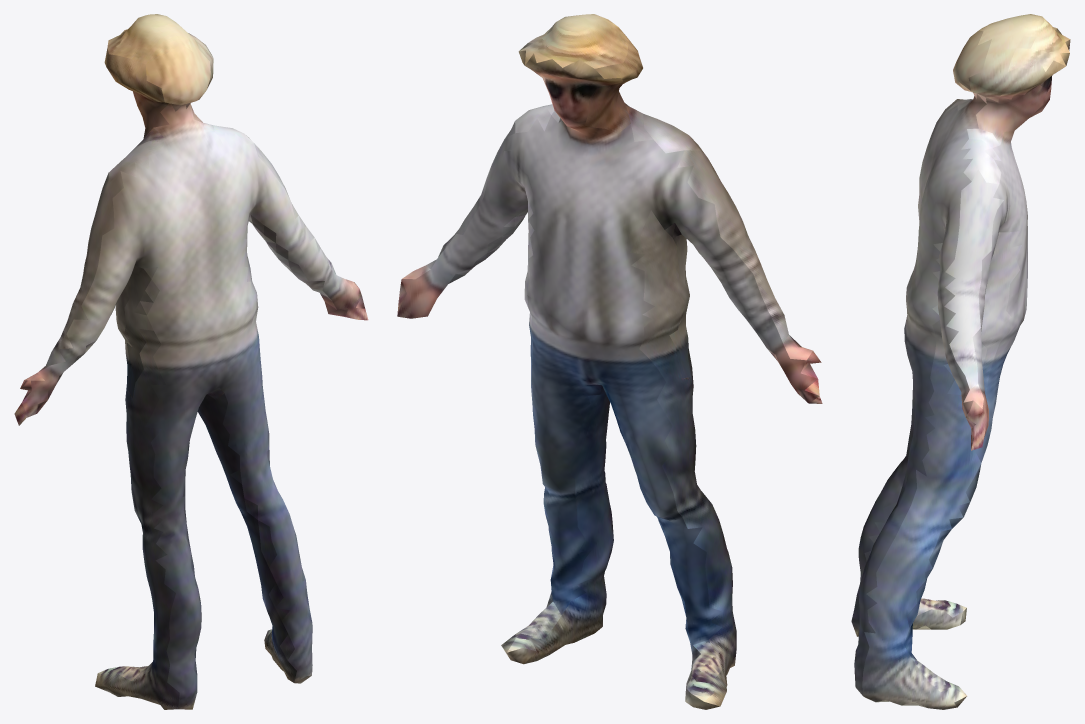
3 renders of one model, left to right at view 1: azimuth 30°, elevation 25°; view 2: azimuth 150°, elevation 25°; view 3: azimuth 270°, elevation 25°, orthographic. The views are drawn at different scales.
Parts seen in each view (by area): view 1: world; view 2: world; view 3: world.
Boxes of the visible parts, x1,y1,x2,y2 form: world: [14, 14, 368, 709]; world: [397, 14, 822, 709]; world: [851, 14, 1070, 709].
Size of the model in its own units: 0.6204 by 1.01 by 0.311.
Materials: 1 (1 with a texture image).
